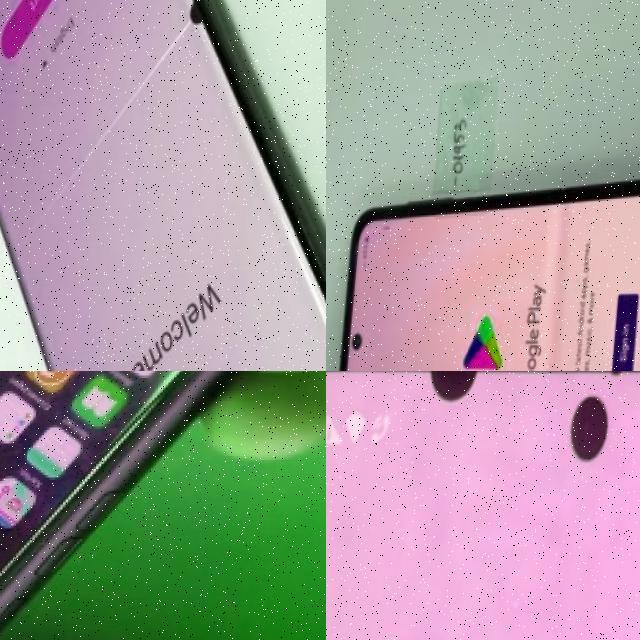dead pixel: (417, 371, 489, 423), (172, 0, 218, 40)
